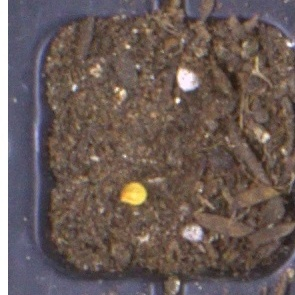chilli seed: (118, 181, 147, 205)
